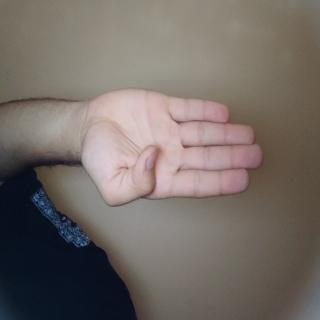KAAF: (62, 72, 159, 320)
